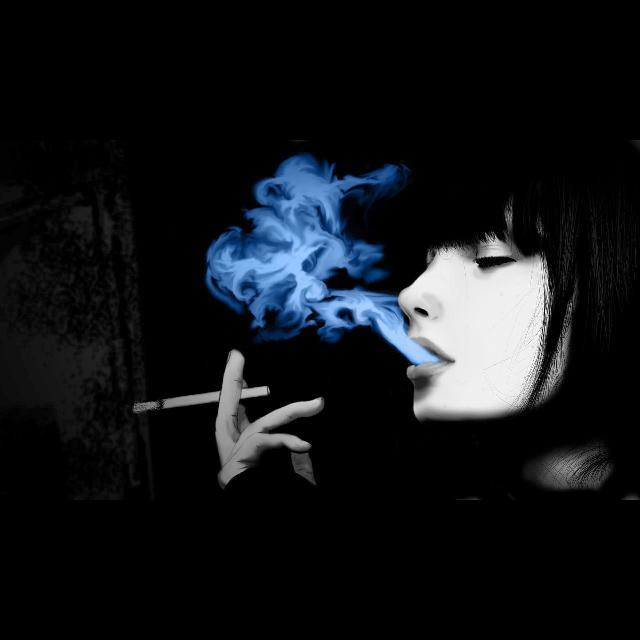rokok: (128, 386, 274, 414)
